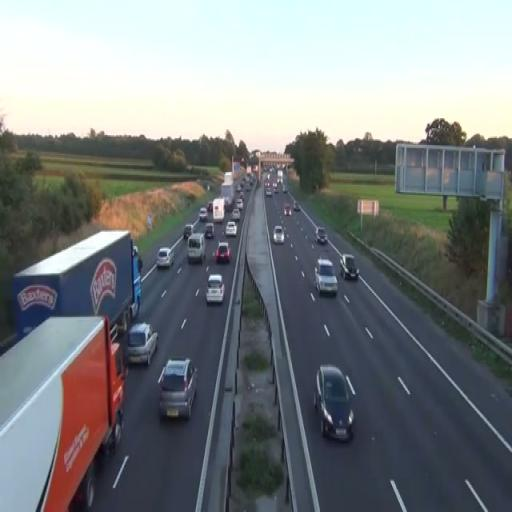Car: (314, 364, 358, 442), (157, 357, 198, 421), (127, 321, 159, 366), (314, 258, 339, 297), (205, 273, 225, 306), (187, 232, 206, 264), (340, 253, 358, 280), (156, 246, 174, 270), (214, 242, 232, 264), (273, 224, 285, 244), (226, 220, 237, 238), (205, 222, 214, 240), (230, 208, 240, 222)
Truck: (0, 314, 128, 508), (13, 229, 142, 341), (213, 198, 225, 222)
